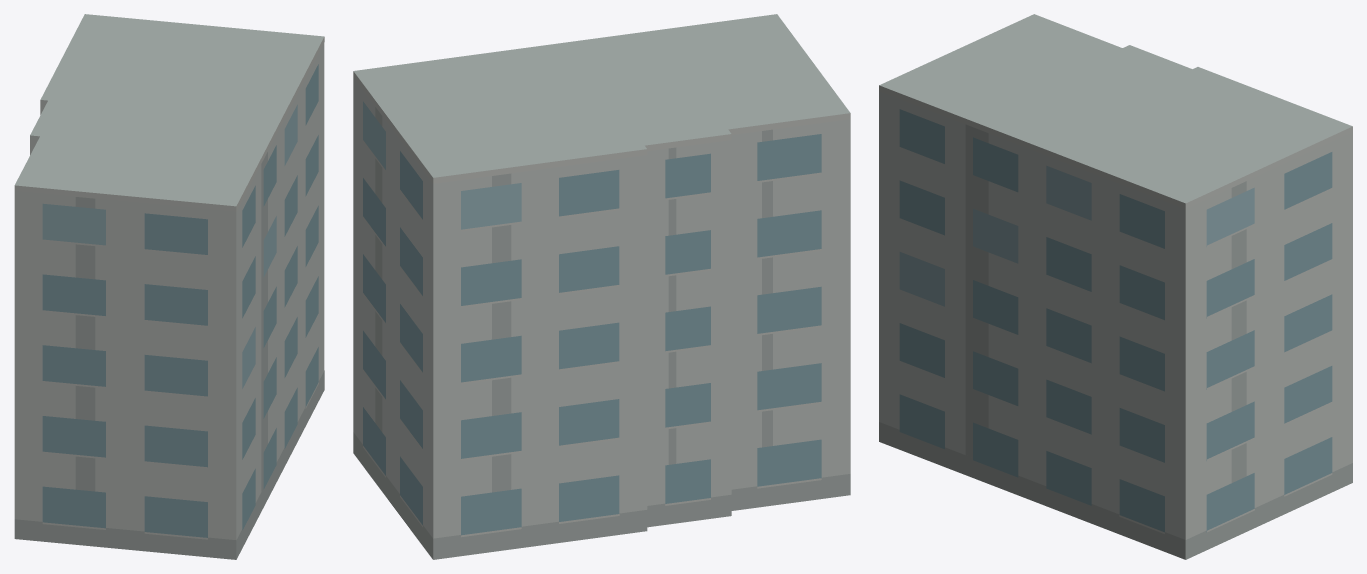
File: survey-upis-32528812.glb
The picture shows the model from 3 angles, left to right: view 1: azimuth 30°, elevation 25°; view 2: azimuth 150°, elevation 25°; view 3: azimuth 270°, elevation 25°; orthographic projection. The views are drawn at different scales.
Visible parts, largest first — view 1: survey-upis-32528812.tmp; view 2: survey-upis-32528812.tmp; view 3: survey-upis-32528812.tmp.
Part boxes in pixels (x1,y1,x2,y2): survey-upis-32528812.tmp: [14, 14, 324, 559]; survey-upis-32528812.tmp: [353, 14, 850, 559]; survey-upis-32528812.tmp: [879, 14, 1352, 559].
Bounding box in the file's own units: 17.39 × 15.25 × 18.38.
